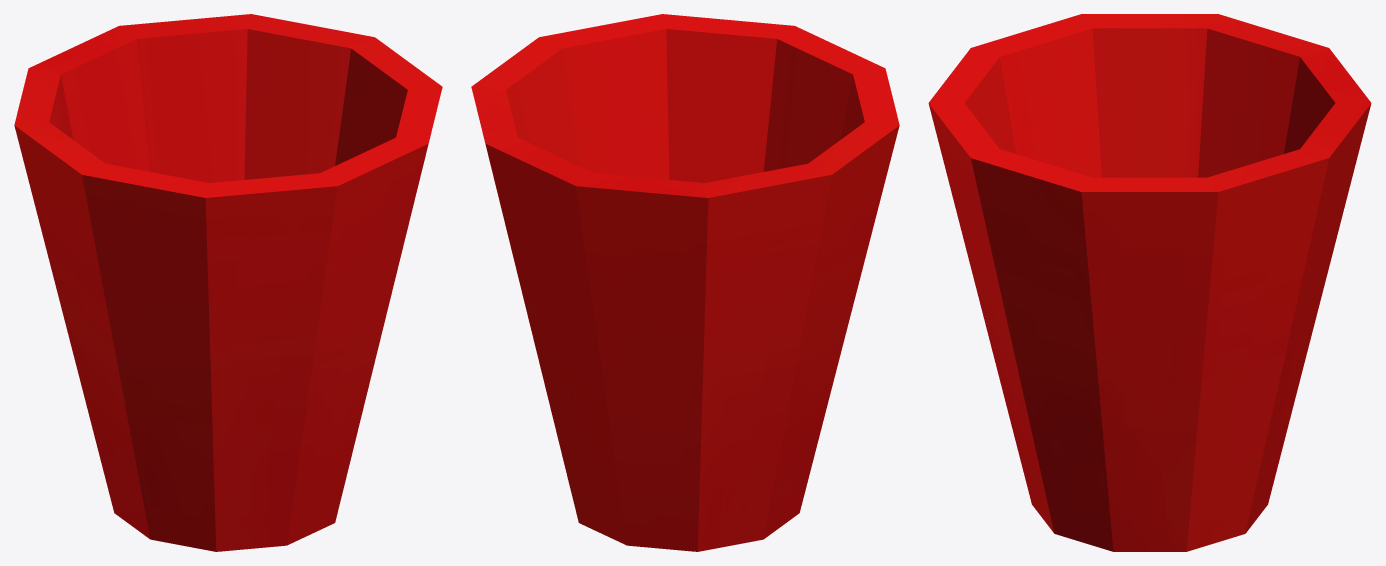
The model's file is veladora-roja.obj.
3 renders of one model, left to right at view 1: azimuth 30°, elevation 25°; view 2: azimuth 150°, elevation 25°; view 3: azimuth 270°, elevation 25°, orthographic.
Visible parts, largest first — view 1: Cylinder.008; view 2: Cylinder.008; view 3: Cylinder.008.
Boxes of the visible parts, x1,y1,x2,y2 form: Cylinder.008: (14, 14, 442, 551); Cylinder.008: (471, 14, 899, 551); Cylinder.008: (928, 14, 1371, 551).
Size of the model in its own units: 0.0382 by 0.0402 by 0.0402.
1 material, 1 textured.
